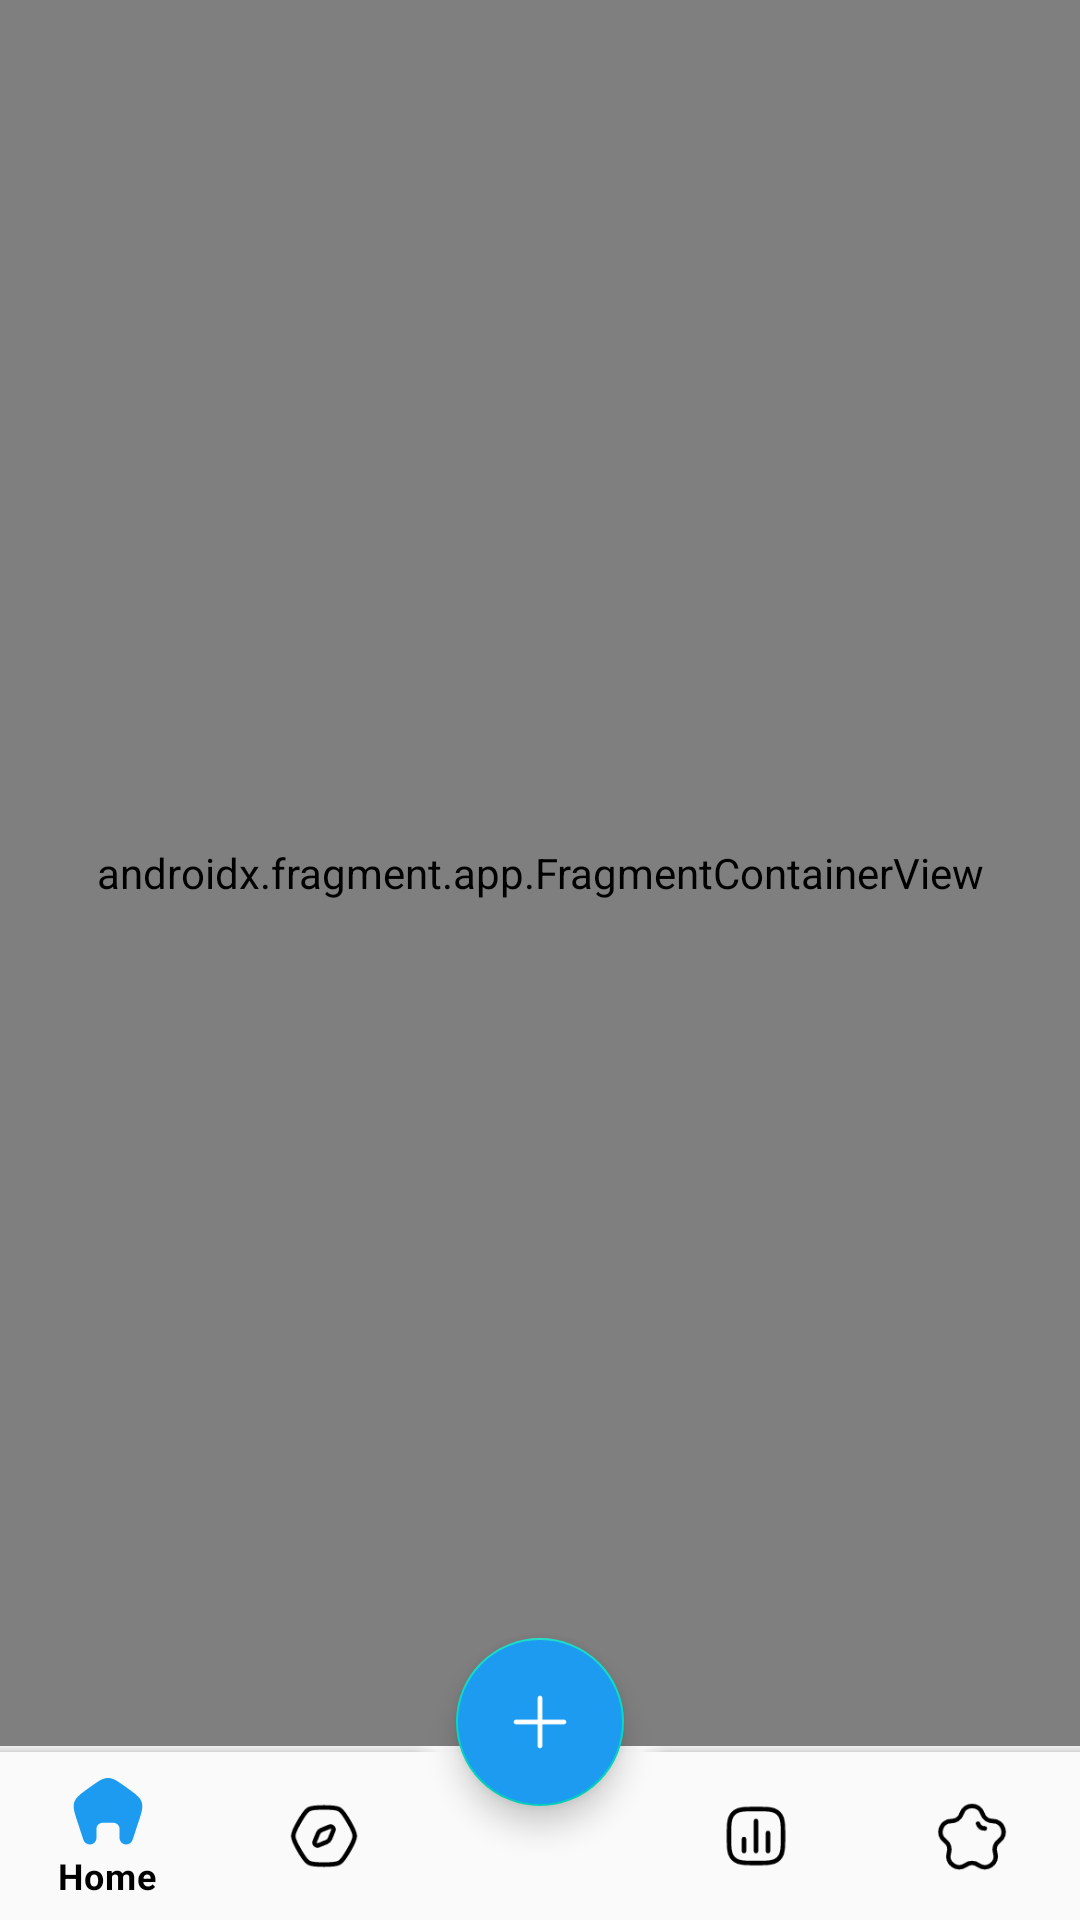

Point at icon controls on the screen. Image size 1080*1920, points as (x,y).
add: (540,1752)
